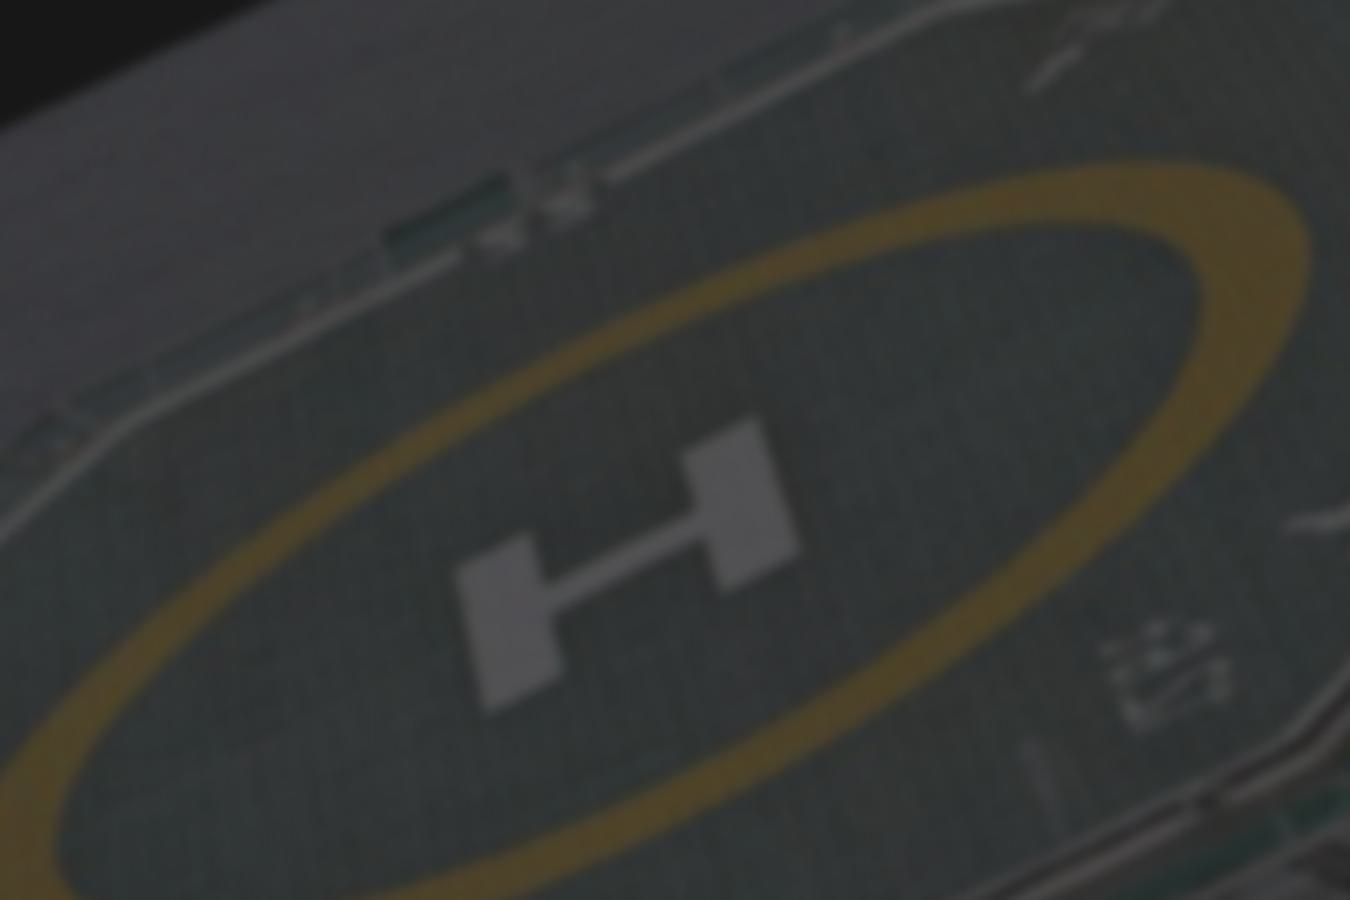Apron: (15, 157, 1324, 900)
